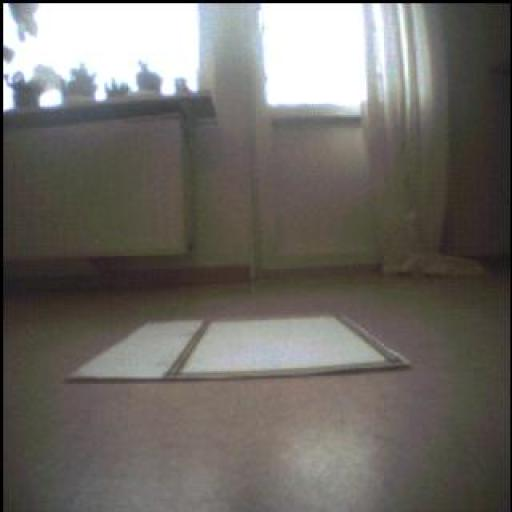Pad: (60, 311, 421, 380)
